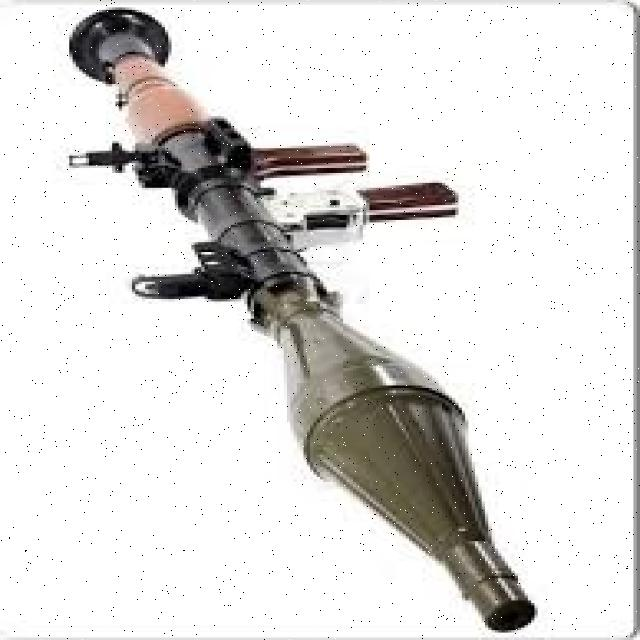bazooka: (41, 1, 551, 639)
